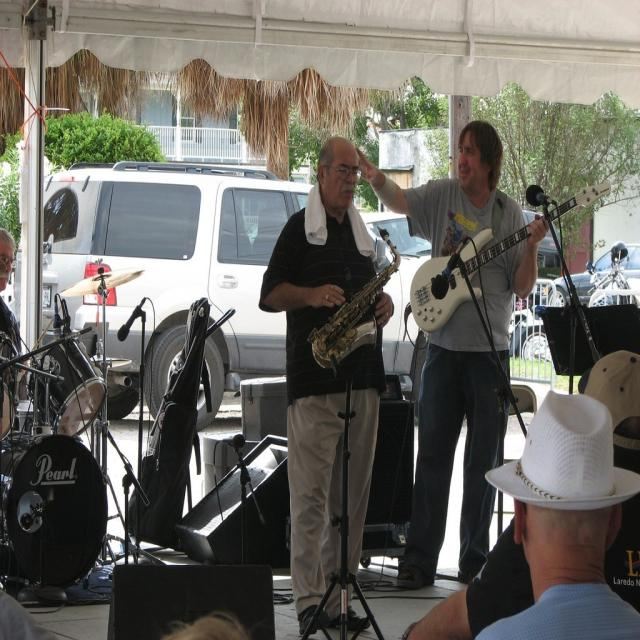saxophone: (308, 224, 403, 373)
